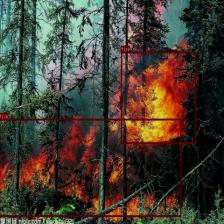fire: (0, 118, 181, 216), (120, 51, 196, 144)
